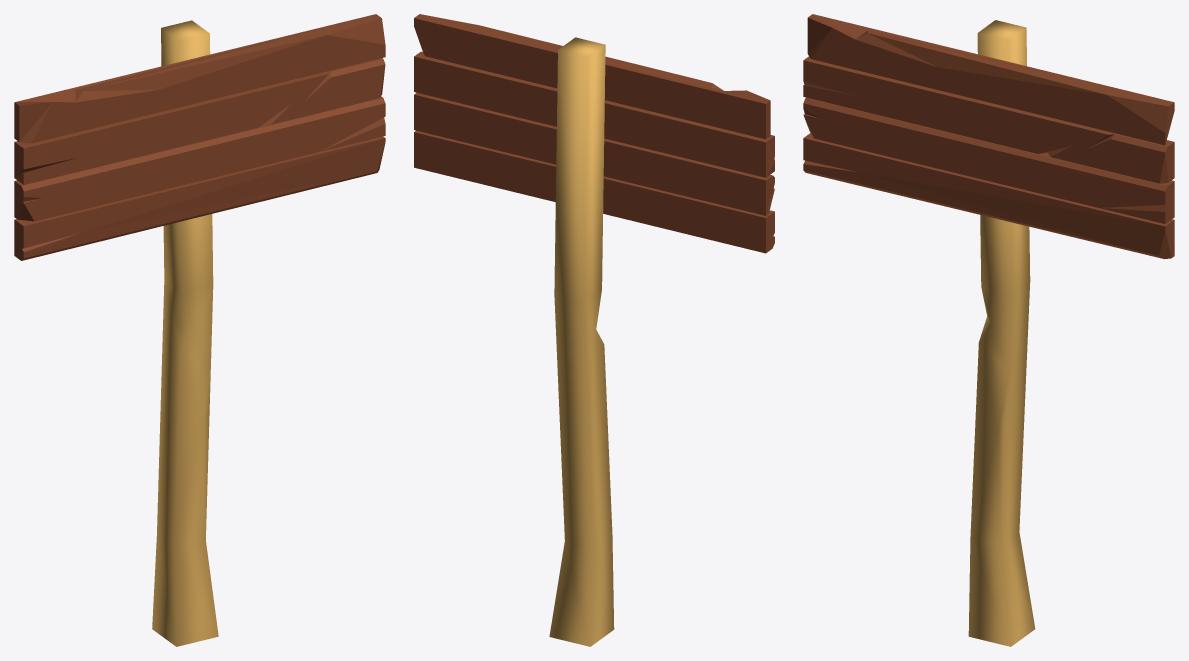
File: placa02.fbx
The picture shows the model from 3 angles, left to right: view 1: azimuth 30°, elevation 25°; view 2: azimuth 150°, elevation 25°; view 3: azimuth 330°, elevation 25°; orthographic projection. The views are drawn at different scales.
Visible parts, largest first — view 1: PLACA 02; view 2: PLACA 02; view 3: PLACA 02.
Part boxes in pixels (x1,y1,x2,y2): PLACA 02: (14, 14, 385, 646); PLACA 02: (414, 14, 774, 646); PLACA 02: (803, 14, 1174, 646).
Size of the model in its own units: 66.27 by 105 by 9.69.
